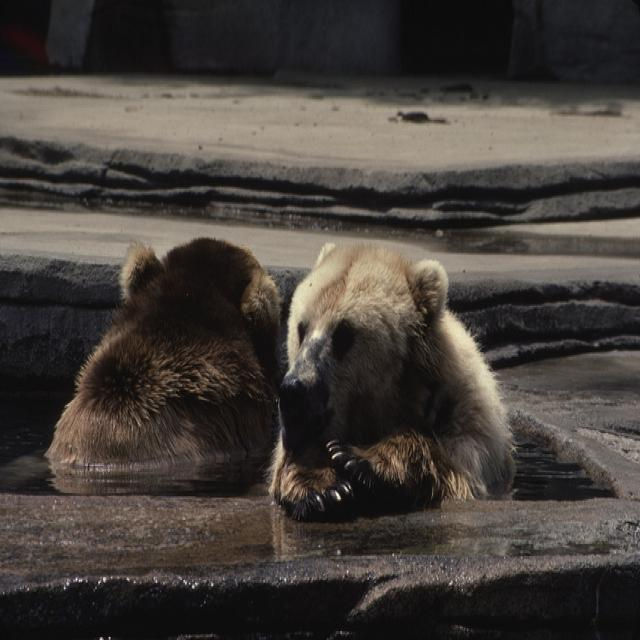Bear: (284, 233, 514, 520), (52, 233, 275, 497)
